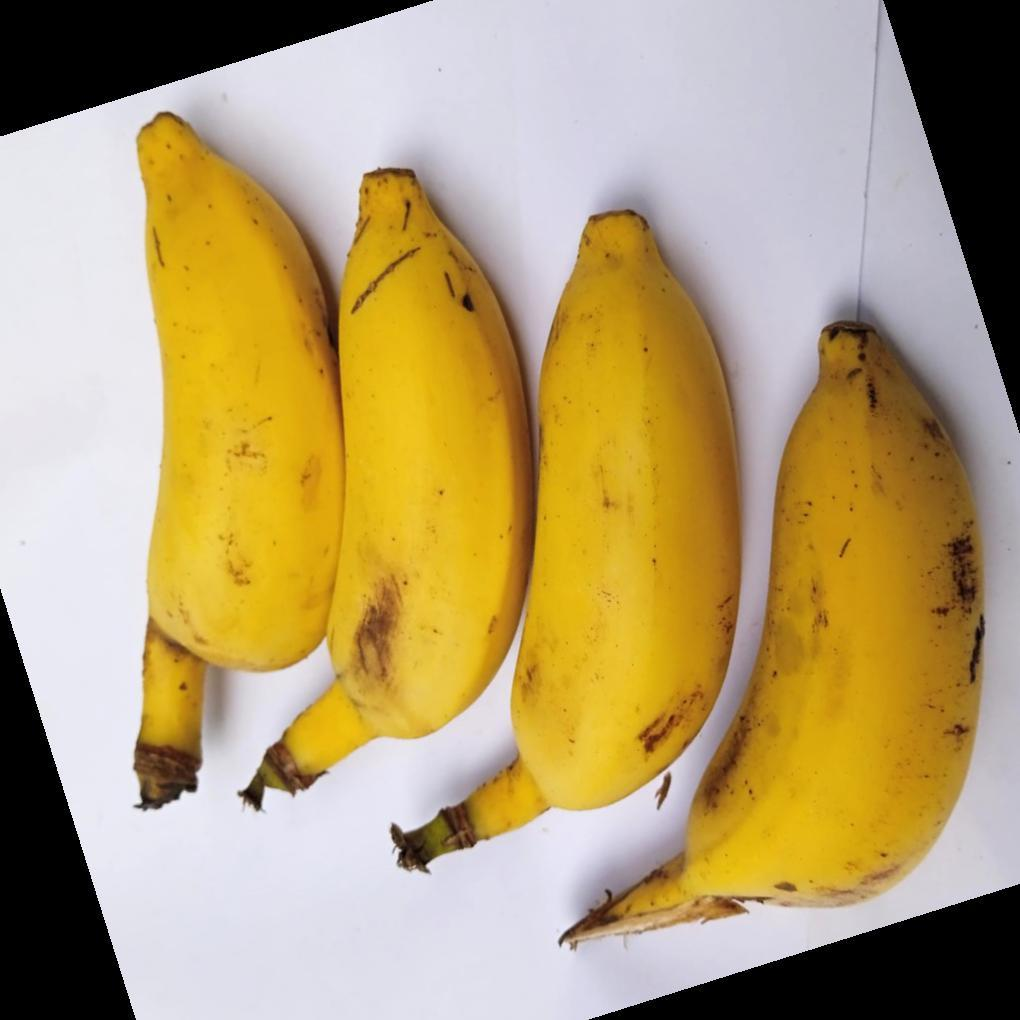Banana Ripe: (651, 224, 989, 969), (443, 149, 749, 910), (285, 76, 540, 943), (88, 106, 357, 813)
